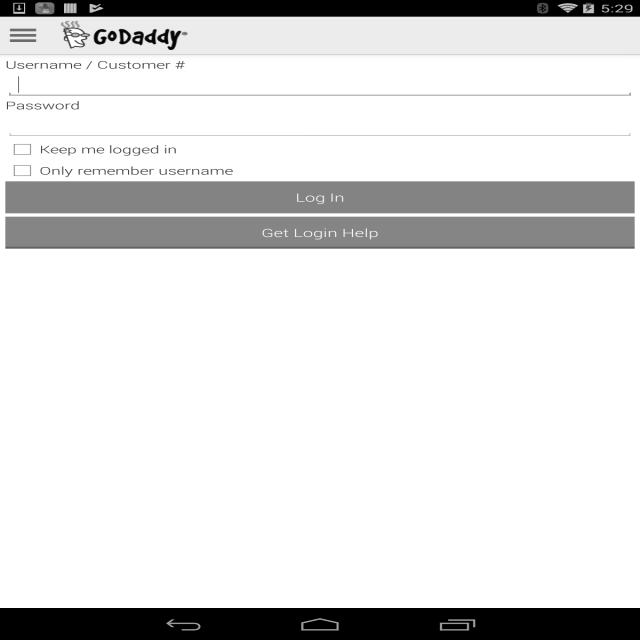Button: (5, 182, 635, 214), (5, 216, 635, 248)
CheckBox: (6, 139, 40, 160), (6, 160, 40, 181)
EditText: (5, 112, 635, 139), (5, 72, 635, 98)
ImageView: (60, 21, 194, 50), (0, 29, 65, 42)
TextView: (40, 163, 233, 178), (5, 57, 186, 72), (40, 142, 177, 156), (5, 98, 80, 112)
